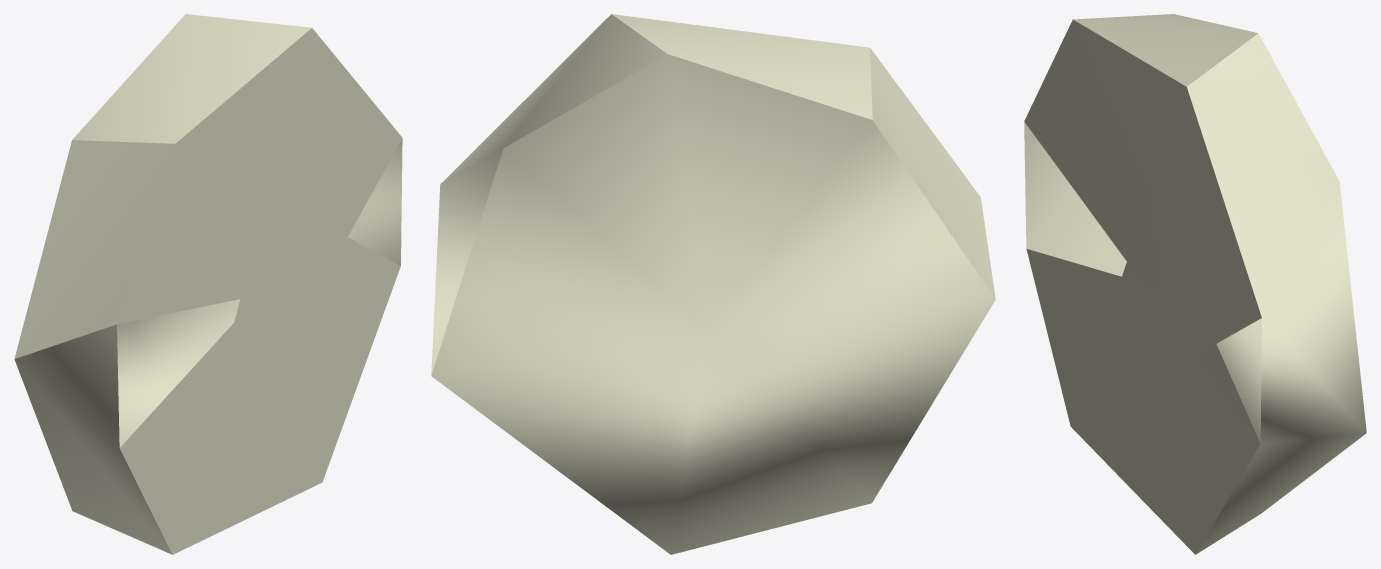
Rendered from original-3.obj.
The picture shows the model from 3 angles, left to right: view 1: azimuth 30°, elevation 25°; view 2: azimuth 150°, elevation 25°; view 3: azimuth 270°, elevation 25°; orthographic projection. The views are drawn at different scales.
Visible parts, largest first — view 1: mesh3/mesh3-geometry#mesh3-geometry; view 2: mesh3/mesh3-geometry#mesh3-geometry; view 3: mesh3/mesh3-geometry#mesh3-geometry.
Part boxes in pixels (<box>): mesh3/mesh3-geometry#mesh3-geometry: <box>14,14,402,554</box>; mesh3/mesh3-geometry#mesh3-geometry: <box>431,14,995,554</box>; mesh3/mesh3-geometry#mesh3-geometry: <box>1024,14,1366,554</box>.
Size of the model in its own units: 0.0814 by 0.0812 by 0.0522.
